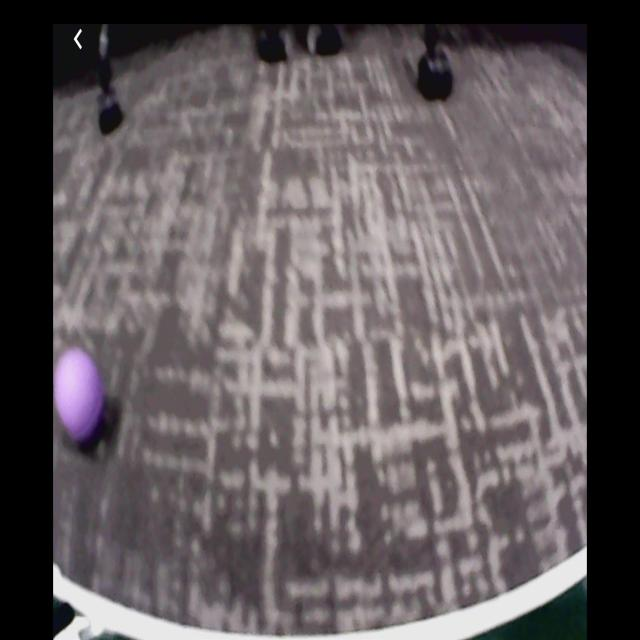ball: (52, 346, 104, 442)
